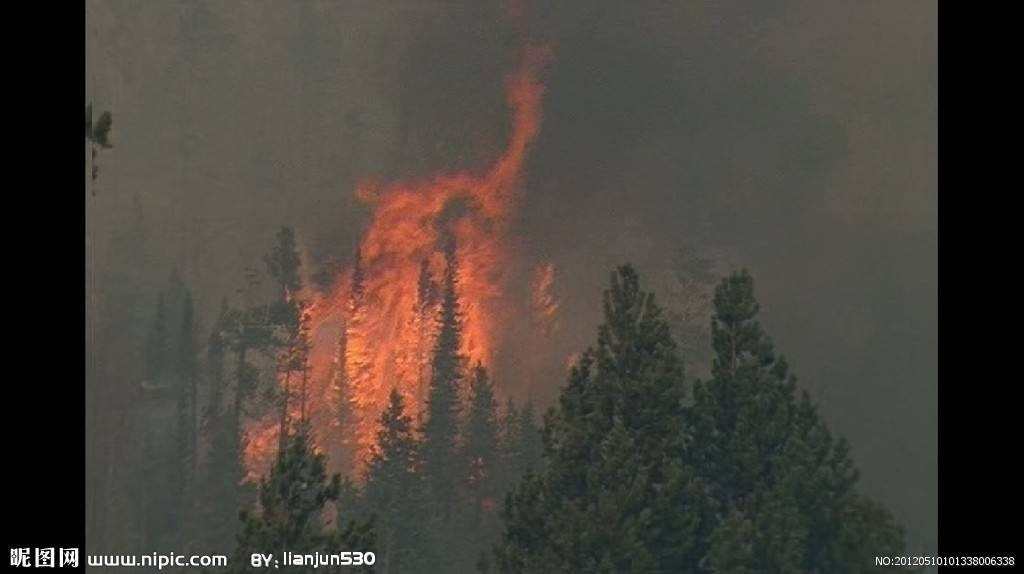fire: (257, 116, 567, 479)
